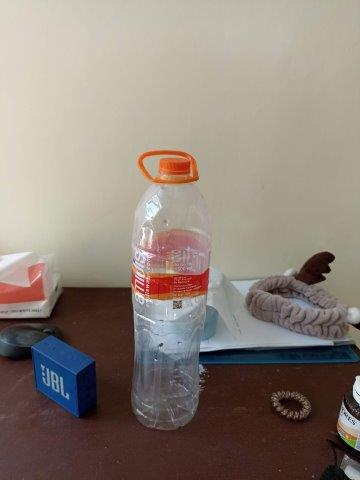botolplastik: (131, 158, 209, 430)
